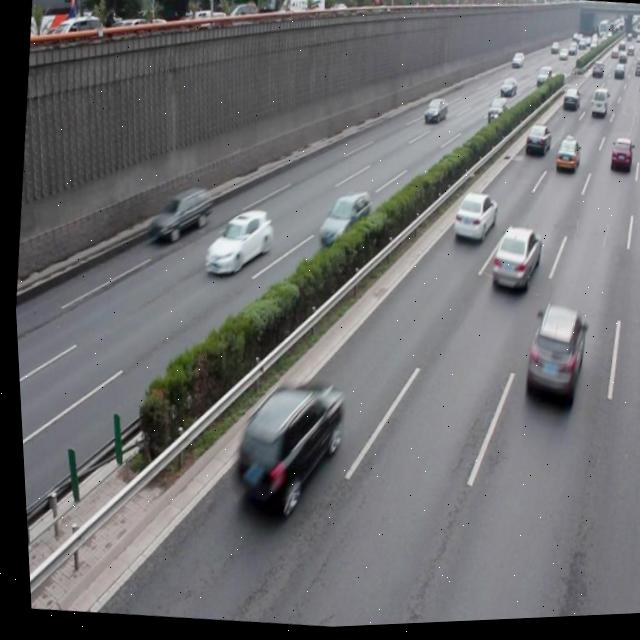car: (221, 376, 343, 528), (514, 305, 585, 410), (197, 205, 273, 282), (145, 183, 212, 249), (481, 227, 540, 299), (311, 191, 371, 253), (446, 192, 496, 249), (549, 140, 579, 181), (604, 140, 631, 179)
